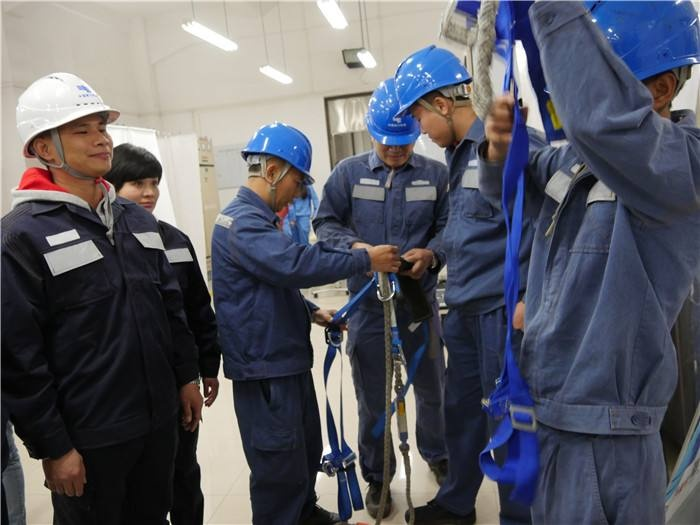blue: (392, 46, 469, 144), (239, 119, 314, 209), (362, 78, 422, 166)
none: (104, 138, 162, 215)
white: (17, 67, 115, 191)
